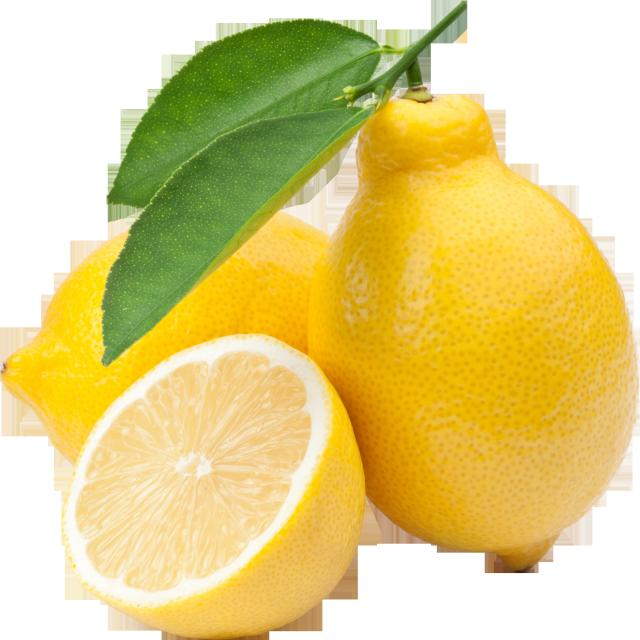lemon: (320, 99, 624, 593), (61, 336, 368, 628)
